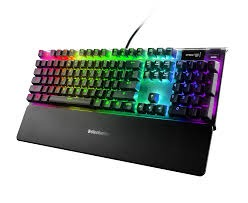keyboard: (14, 35, 231, 182)
